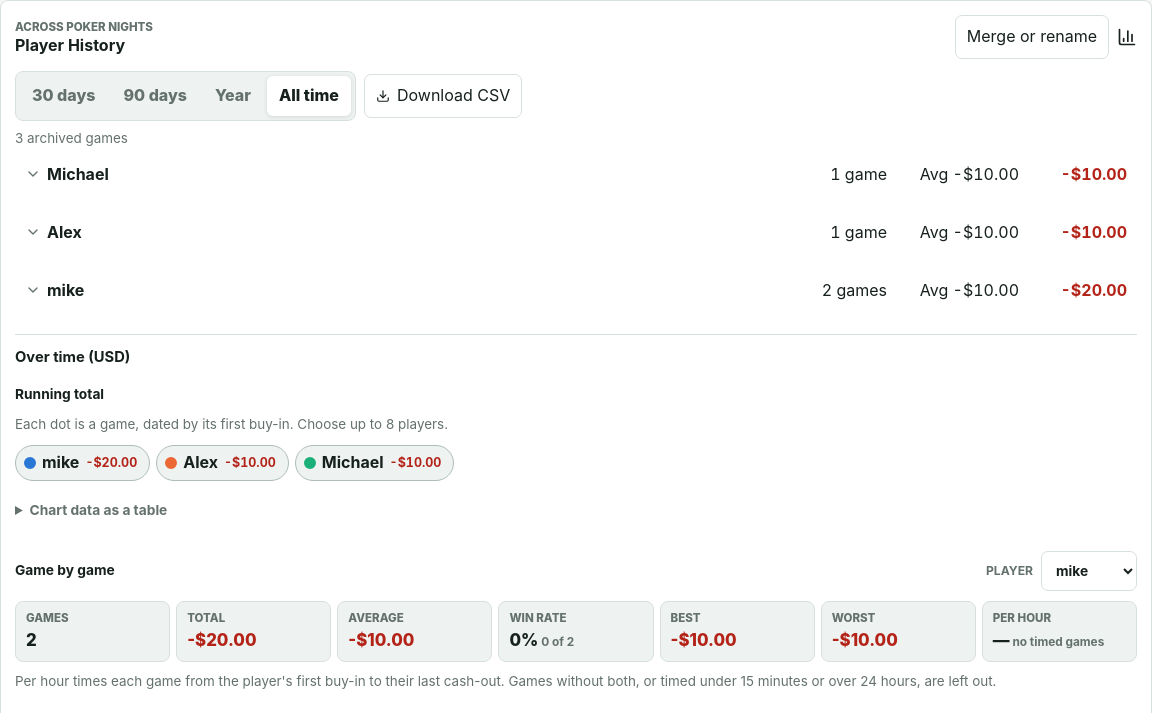
Player History merging › updates when people change in another tab
This screenshot has width=1152, height=713.
Check: the text "3 archived games" is shown, box left=15, top=130, right=128, bottom=146
Click the button "Merge or rename" at point(1032, 37), box left=955, top=15, right=1109, bottom=59
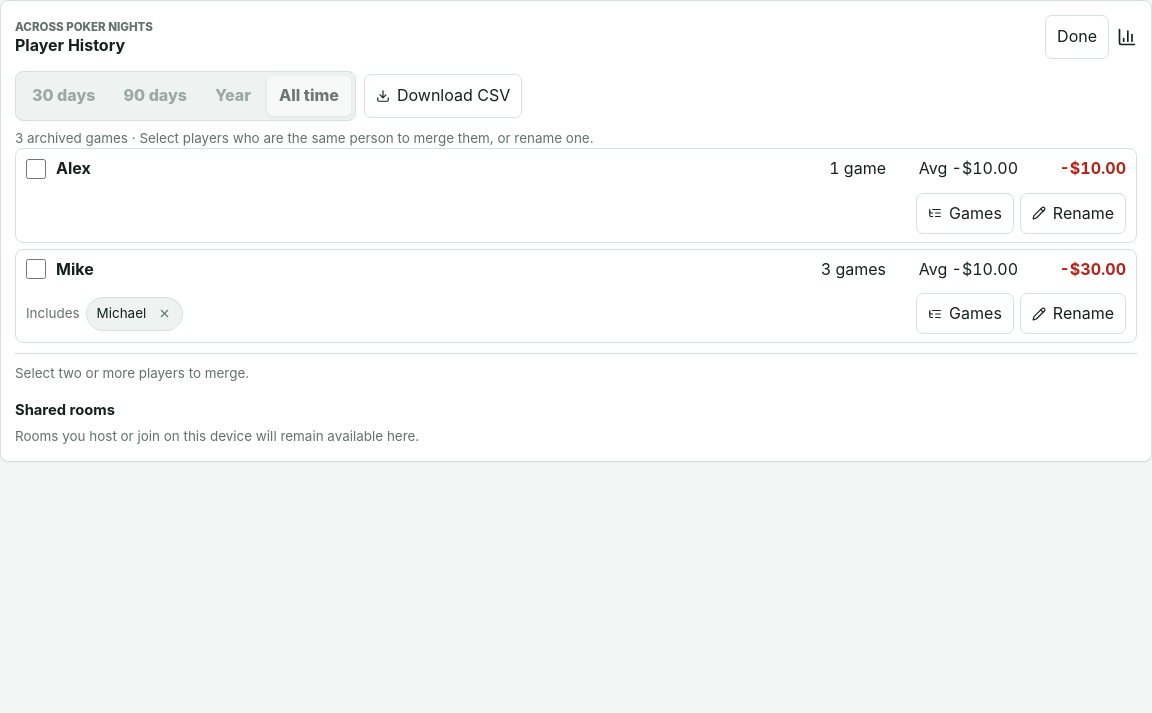
Check: the element named "Select Mike" shows "3 games", box left=15, top=249, right=1137, bottom=343
